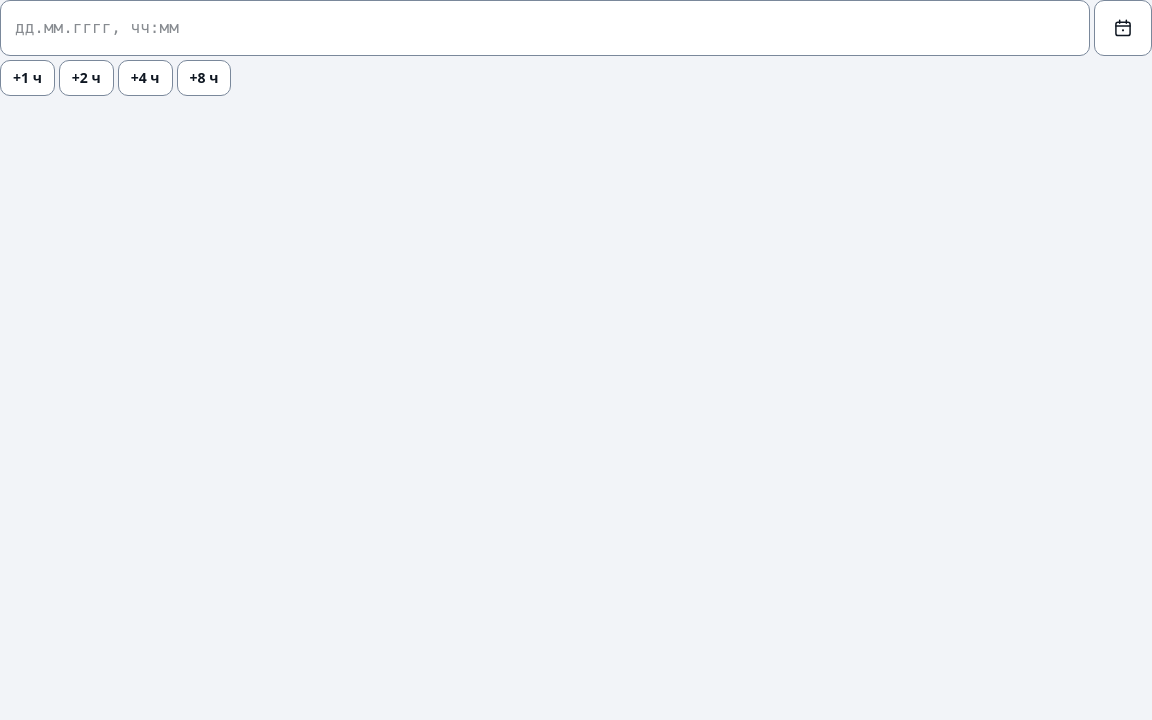
Test case: DateTimeField interactions › uses the calendar to choose today and commits the selected local date as ISO
What coordinates should you click on to do the following:
click the button named "Выбрать в календаре"
I would click on:
 (1123, 28)
Its box is [1094,0,1151,56].
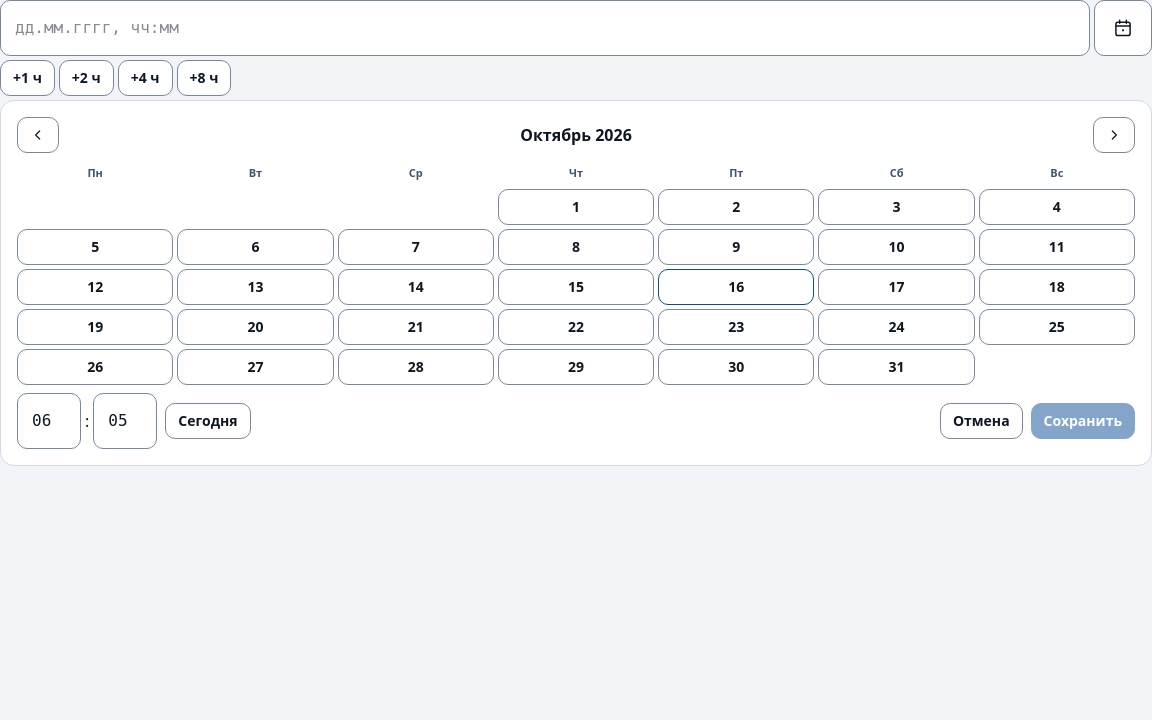
What coordinates should you click on to do the following:
click the button "Сегодня"
I would click on:
 (208, 421)
Its box is [165,403,251,439].
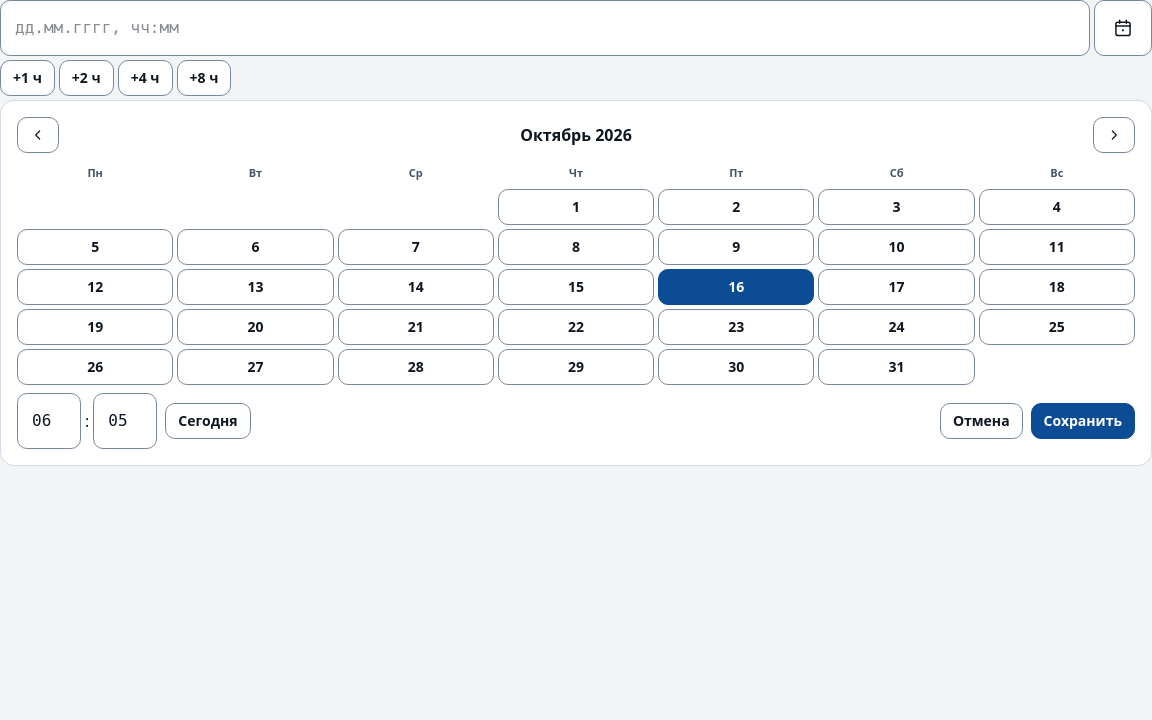
What coordinates should you click on to do the following:
click the button "Сохранить"
I would click on:
 (1083, 421)
Its box is [1031,403,1135,439].
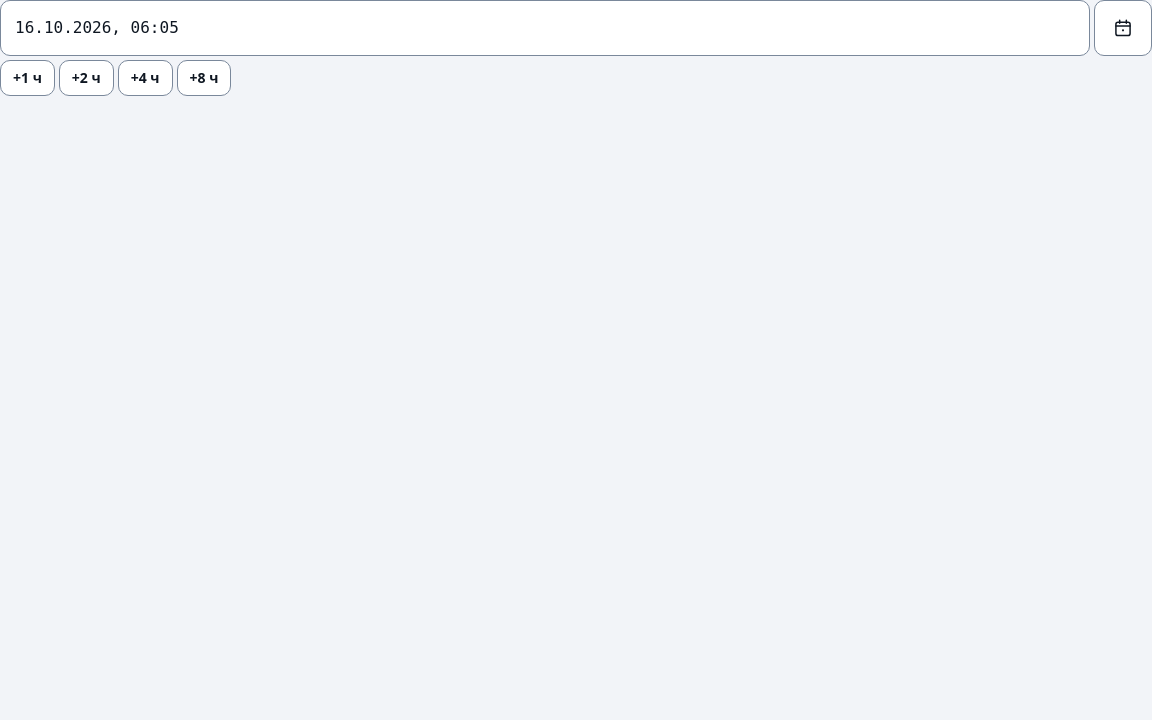
Check: the dialog is gone
